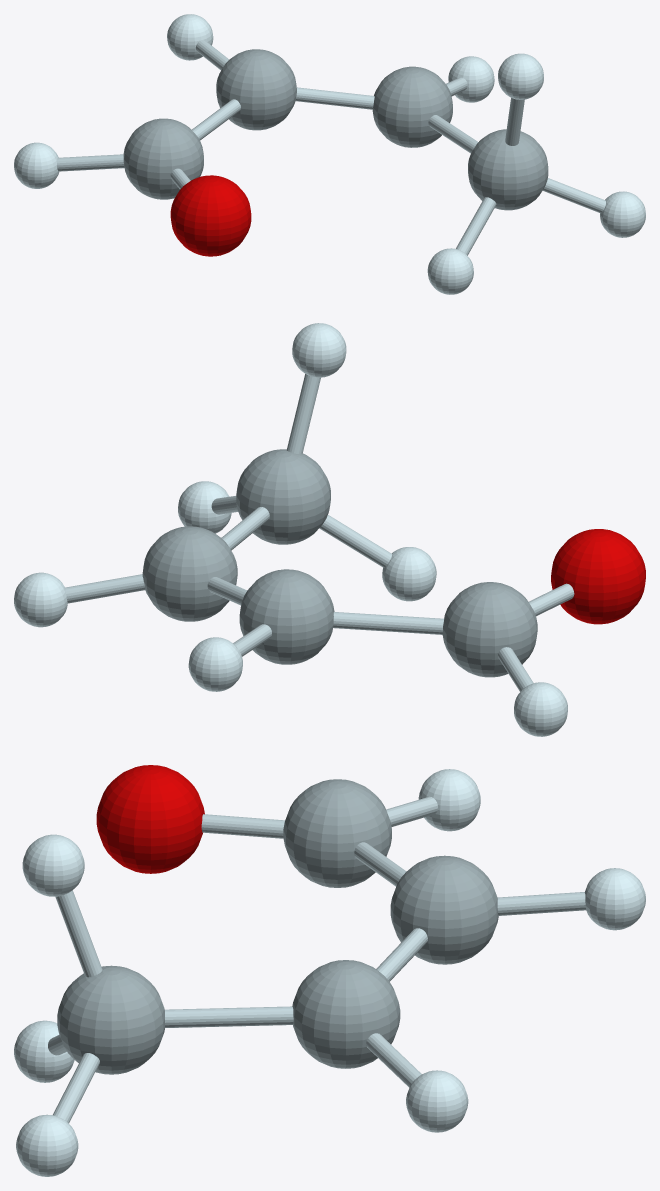
The model's file is irc_038.glb.
3 renders of one model, top to bottom at view 1: azimuth 30°, elevation 25°; view 2: azimuth 150°, elevation 25°; view 3: azimuth 270°, elevation 25°, orthographic. The views are drawn at different scales.
Visible parts, largest first — view 1: Renderer Node; view 2: Renderer Node; view 3: Renderer Node.
Boxes of the visible parts, <box> form: Renderer Node: <box>14,14,645,294</box>; Renderer Node: <box>14,323,645,736</box>; Renderer Node: <box>14,765,645,1176</box>.
Size of the model in its own units: 4.73 by 2.06 by 4.06.
